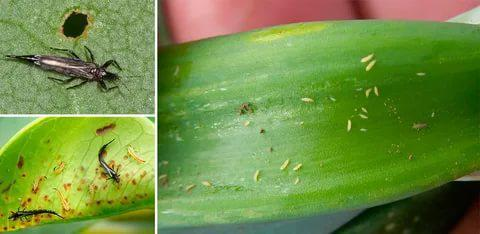tiny_pests: (0, 201, 75, 231), (88, 135, 125, 190), (352, 58, 384, 75), (338, 112, 357, 136), (356, 47, 381, 65), (269, 154, 294, 172)
